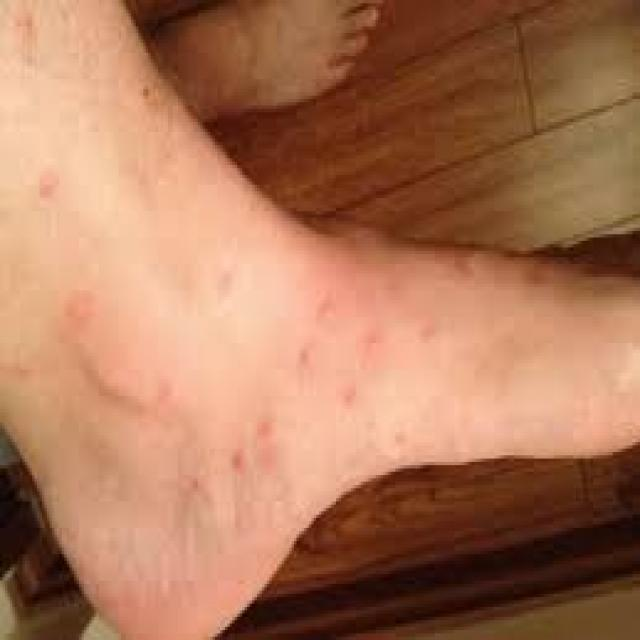kan emici bocekler: (59, 291, 111, 342), (29, 155, 68, 209), (315, 298, 354, 343), (225, 439, 263, 481), (334, 379, 366, 413), (257, 418, 282, 457), (300, 344, 318, 378)
